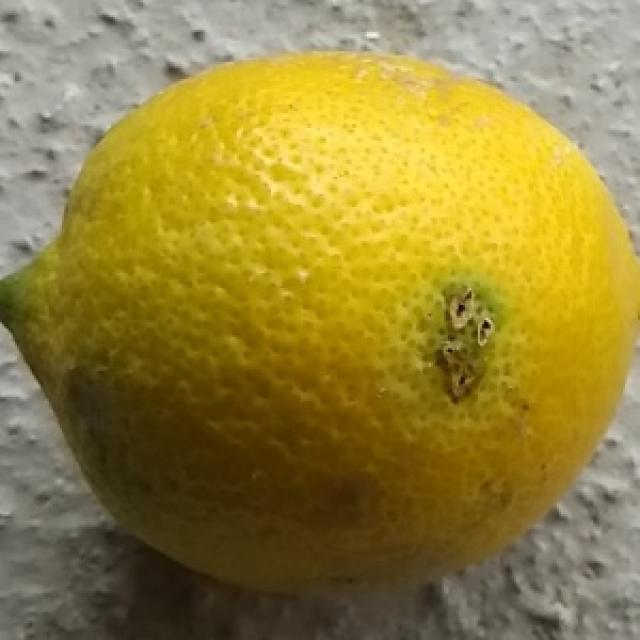Ripe: (3, 37, 640, 606)
